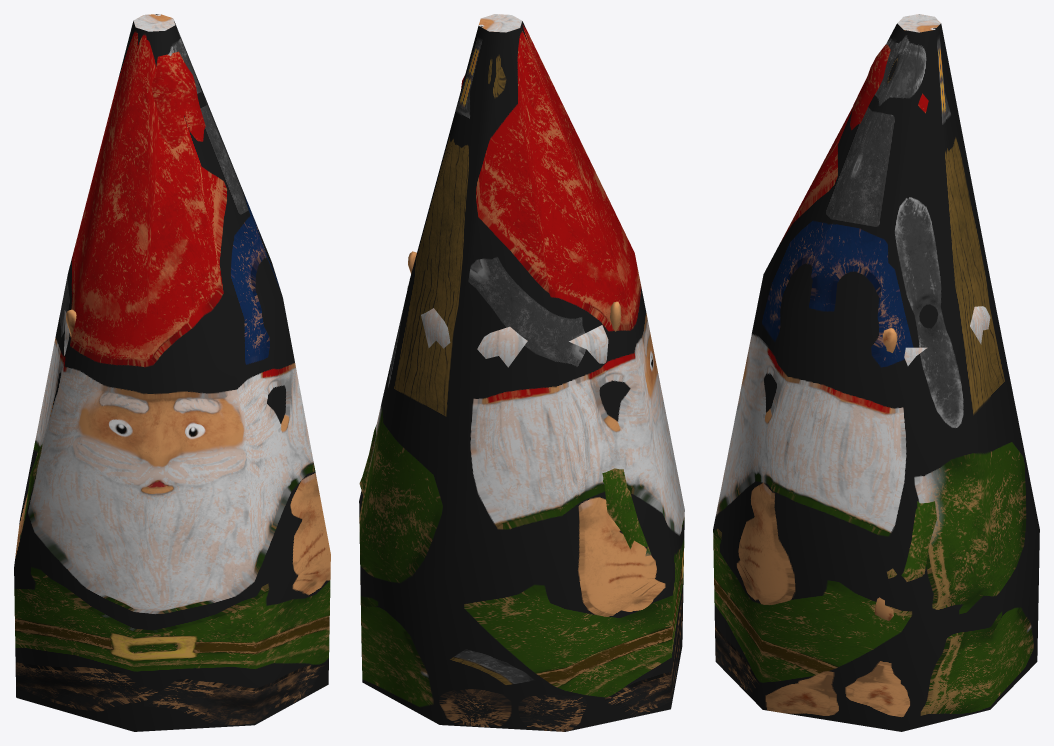
The model's file is garden_gnome_A.FBX.
3 renders of one model, left to right at view 1: azimuth 30°, elevation 25°; view 2: azimuth 150°, elevation 25°; view 3: azimuth 270°, elevation 25°, orthographic. The views are drawn at different scales.
Parts seen in each view (by area): view 1: garden_gnome_A_COL, garden_gnome_LOD0; view 2: garden_gnome_A_COL, garden_gnome_LOD0; view 3: garden_gnome_A_COL, garden_gnome_LOD0.
Part boxes in pixels (<box>): garden_gnome_A_COL: <box>14,14,330,731</box>; garden_gnome_LOD0: <box>19,51,205,538</box>; garden_gnome_A_COL: <box>359,14,684,731</box>; garden_gnome_LOD0: <box>359,75,650,556</box>; garden_gnome_A_COL: <box>713,14,1039,731</box>; garden_gnome_LOD0: <box>850,44,990,620</box>.
Size of what is drawn, in the model's own units: 24.19 by 49 by 22.73.
